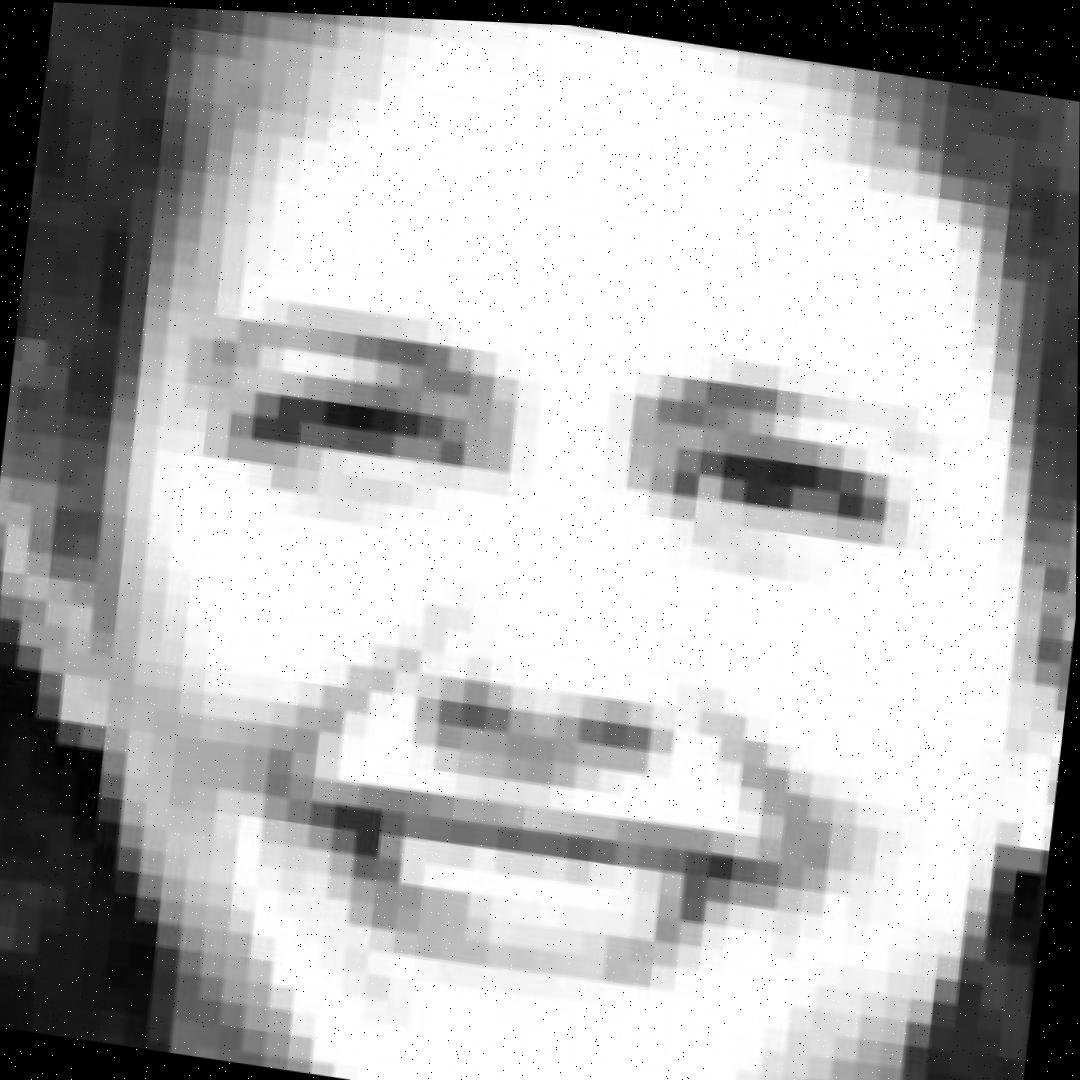happy: (45, 56, 1061, 1080)
